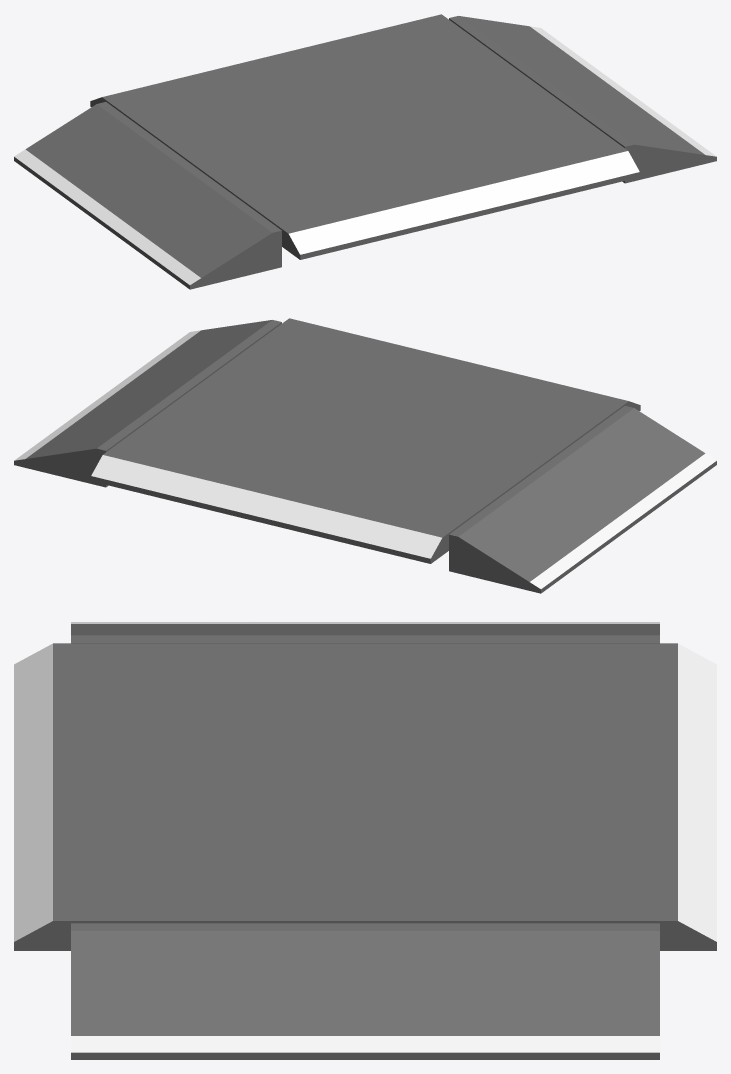
Rendered from ramp_base.glb.
The picture shows the model from 3 angles, top to bottom: view 1: azimuth 30°, elevation 25°; view 2: azimuth 150°, elevation 25°; view 3: azimuth 270°, elevation 25°; orthographic projection. The views are drawn at different scales.
Parts seen in each view (by area): view 1: BaseCenter, BaseSide2, BaseSide1; view 2: BaseCenter, BaseSide2, BaseSide1; view 3: BaseCenter, BaseSide1, BaseSide2.
Boxes of the visible parts, x1=… form: BaseCenter: x1=90, y1=14, x2=639, y2=259; BaseSide2: x1=14, y1=102, x2=281, y2=289; BaseSide1: x1=449, y1=16, x2=716, y2=183; BaseCenter: x1=91, y1=318, x2=640, y2=563; BaseSide2: x1=449, y1=406, x2=716, y2=593; BaseSide1: x1=14, y1=320, x2=281, y2=487; BaseCenter: x1=14, y1=643, x2=716, y2=950; BaseSide1: x1=71, y1=923, x2=659, y2=1059; BaseSide2: x1=71, y1=622, x2=659, y2=643.
Size of what is drawn, in the model's own units: 4.73 by 0.3185 by 3.27.
1 material, 1 textured.
